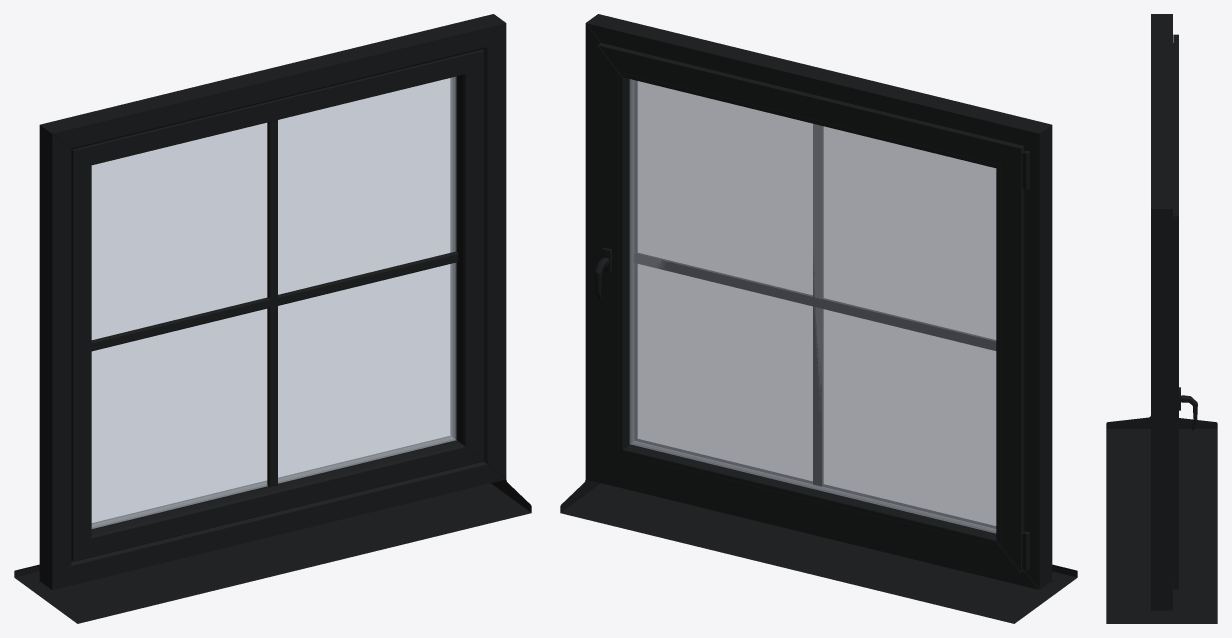
Rendered from window1.fbx.
3 renders of one model, left to right at view 1: azimuth 30°, elevation 25°; view 2: azimuth 150°, elevation 25°; view 3: azimuth 270°, elevation 25°, orthographic. The views are drawn at different scales.
Parts seen in each view (by area): view 1: window1.001; view 2: window1.001; view 3: window1.001.
Part boxes in pixels (<box>): window1.001: <box>14,14,531,623</box>; window1.001: <box>560,14,1077,623</box>; window1.001: <box>1106,14,1217,623</box>.
Bounding box in the file's own units: 125 × 124 × 30.2.
